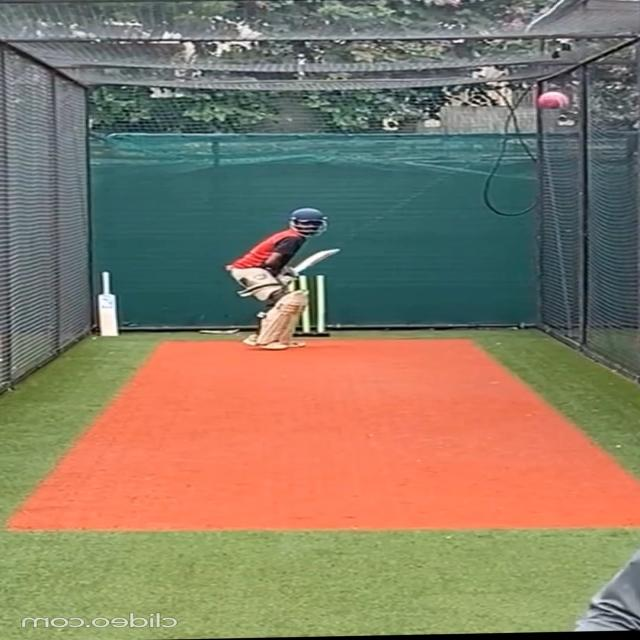ball: (533, 88, 571, 111)
stump: (284, 270, 332, 340)
